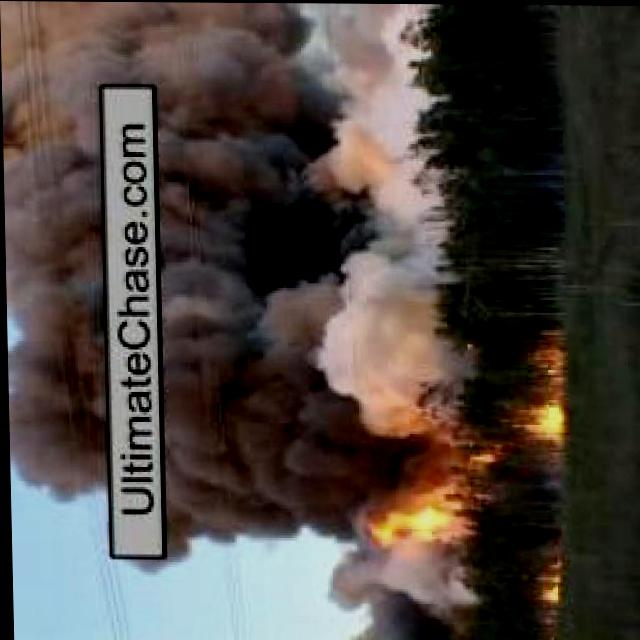Fire: (347, 479, 474, 542), (510, 401, 561, 444), (531, 546, 556, 609), (524, 342, 558, 375)
Smoke: (152, 1, 358, 569), (0, 0, 101, 503), (352, 2, 455, 452)
